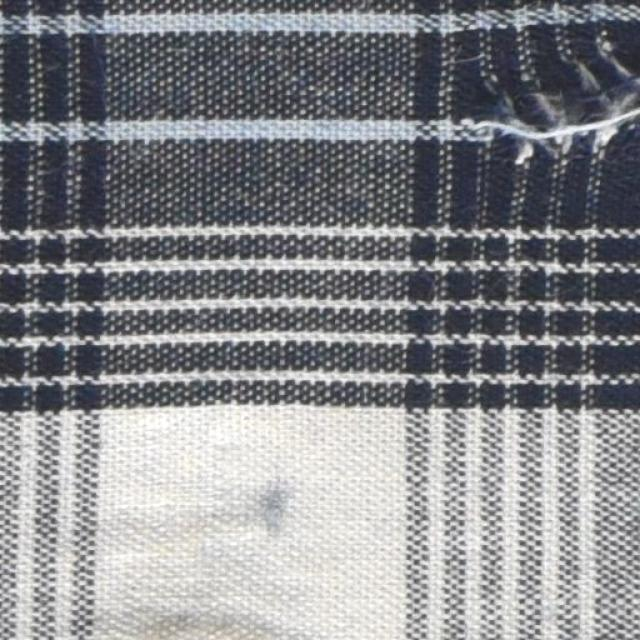Snag: (474, 40, 639, 178)
